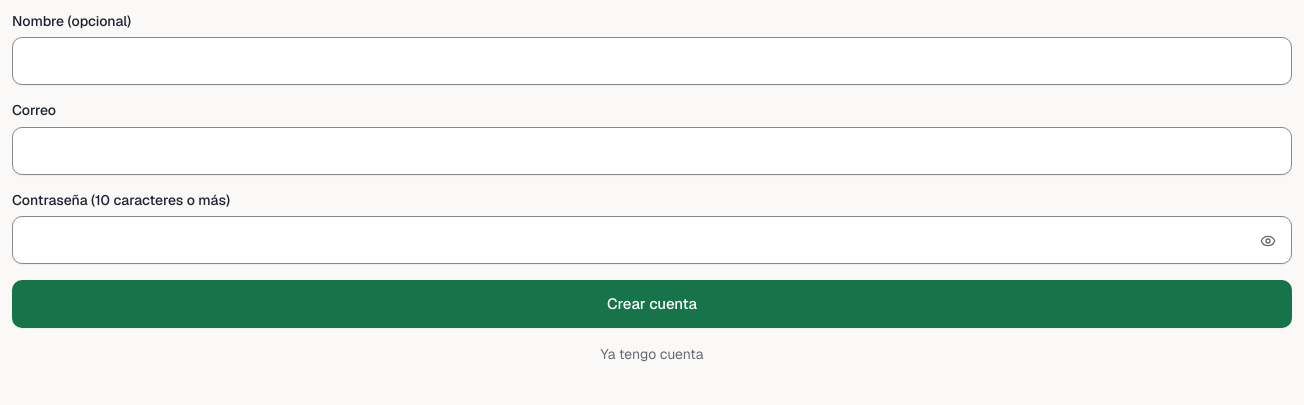
SignUpForm (AC-2) › asks for 10 characters, then says to check the email
Type "ana@example.com" into the field labelled "Correo" at coordinates (652, 150), box top-left (12, 126), bottom-right (1292, 174)
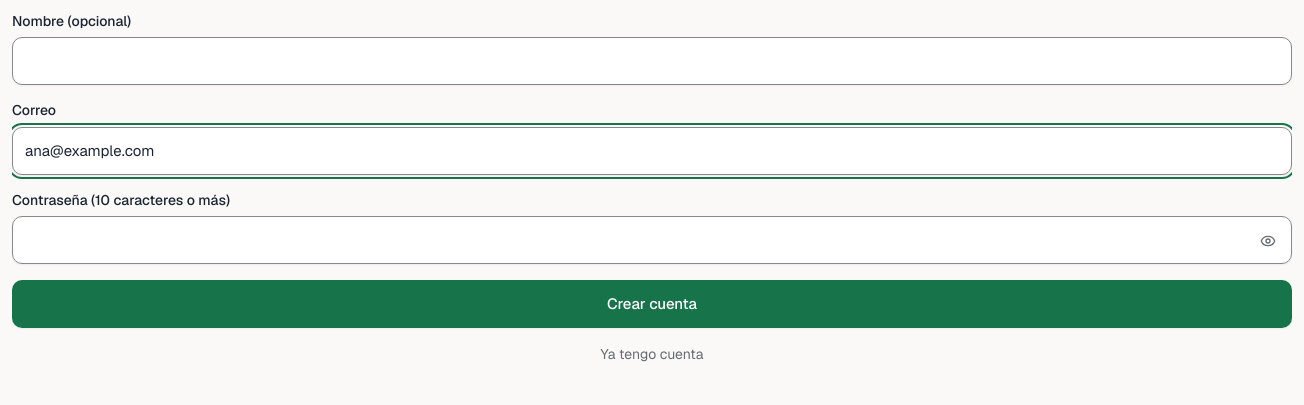
Type "corta" into the password field labelled "Contraseña (10 caracteres o más)" at coordinates (652, 240), box top-left (12, 216), bottom-right (1292, 264)
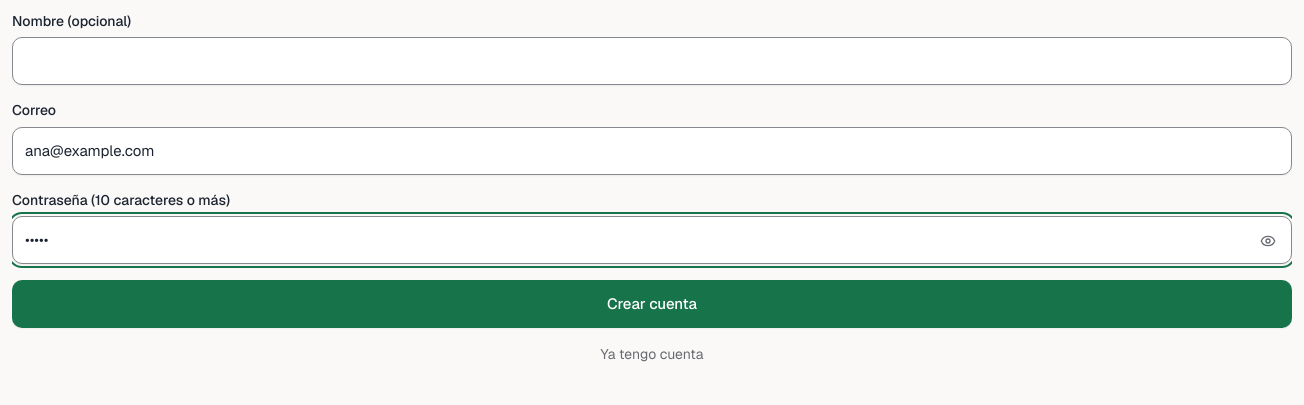
Click the button "Crear cuenta" at coordinates (652, 304), box top-left (12, 280), bottom-right (1292, 328)
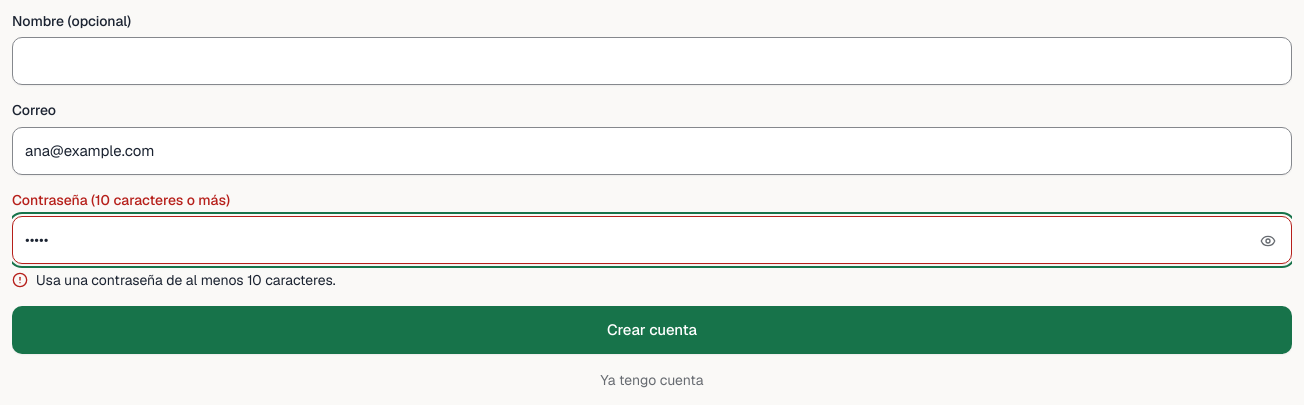
Type "-y-mas-larga" into the password field labelled "Contraseña (10 caracteres o más)" at coordinates (652, 240), box top-left (12, 216), bottom-right (1292, 264)
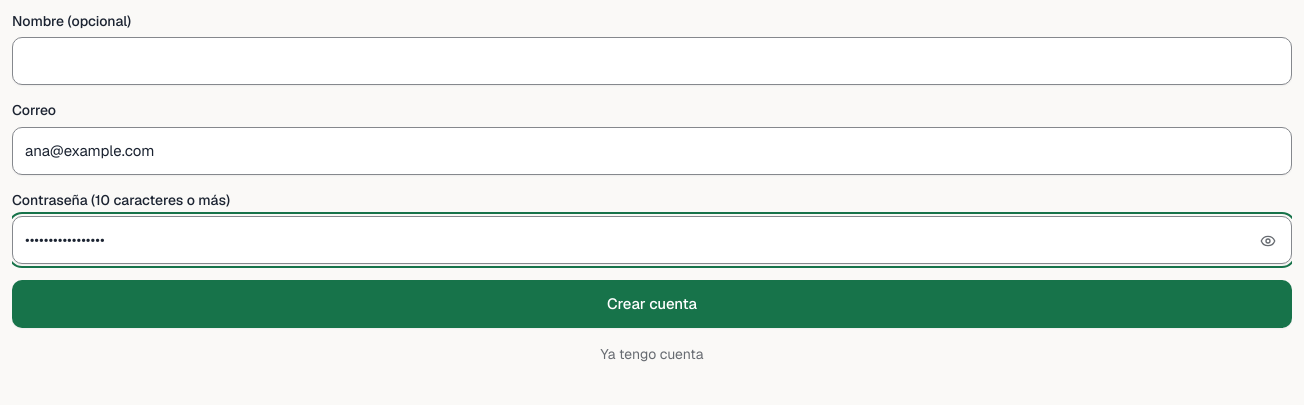
Click the button "Crear cuenta" at coordinates (652, 304), box top-left (12, 280), bottom-right (1292, 328)
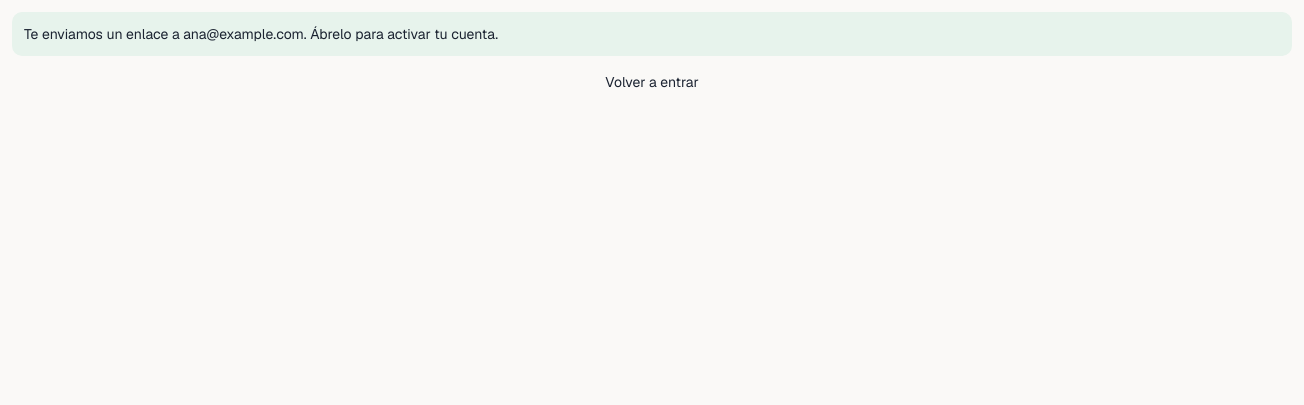
expect the message reads "Te enviamos un enlace a ana@example.com. Ábrelo para activar tu cuenta.": met, box top-left (24, 25), bottom-right (498, 43)
